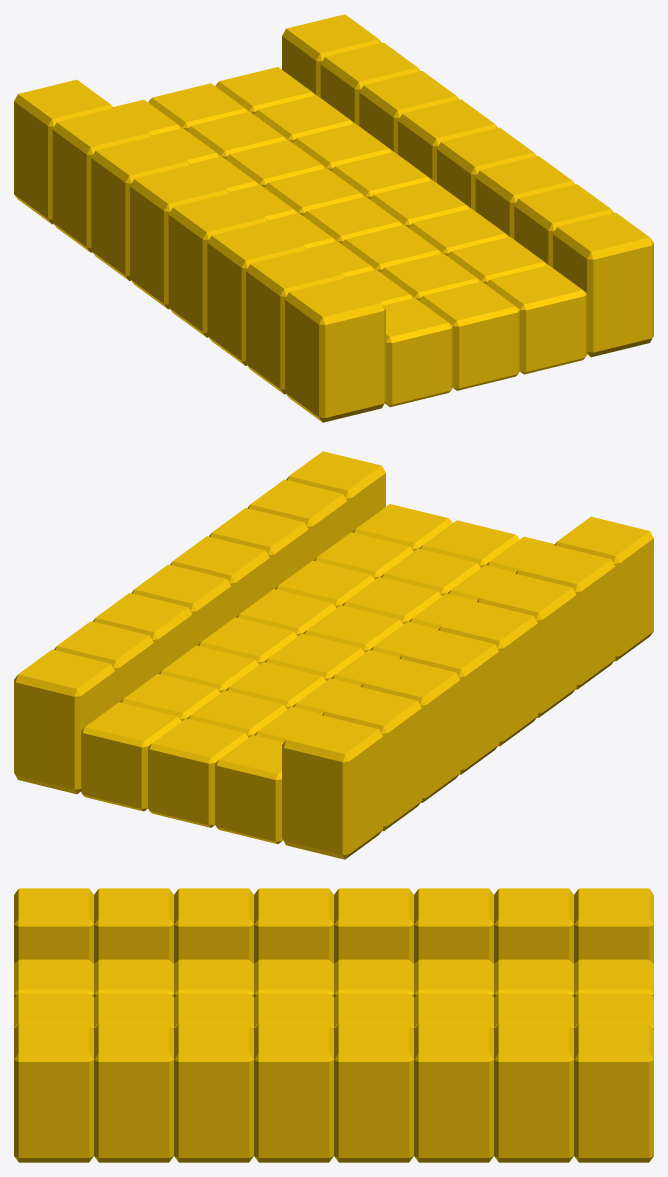
The model's file is Simple Path.FBX.
The picture shows the model from 3 angles, top to bottom: view 1: azimuth 30°, elevation 25°; view 2: azimuth 150°, elevation 25°; view 3: azimuth 270°, elevation 25°; orthographic projection. The views are drawn at different scales.
Parts seen in each view (by area): view 1: simplePath; view 2: simplePath; view 3: simplePath.
Boxes of the visible parts, left/top/right/bottom form: simplePath: left=14, top=14, right=653, bottom=422; simplePath: left=14, top=451, right=653, bottom=859; simplePath: left=14, top=888, right=653, bottom=1162.
Size of the model in its own units: 197 by 59.76 by 315.
1 material, 1 textured.
